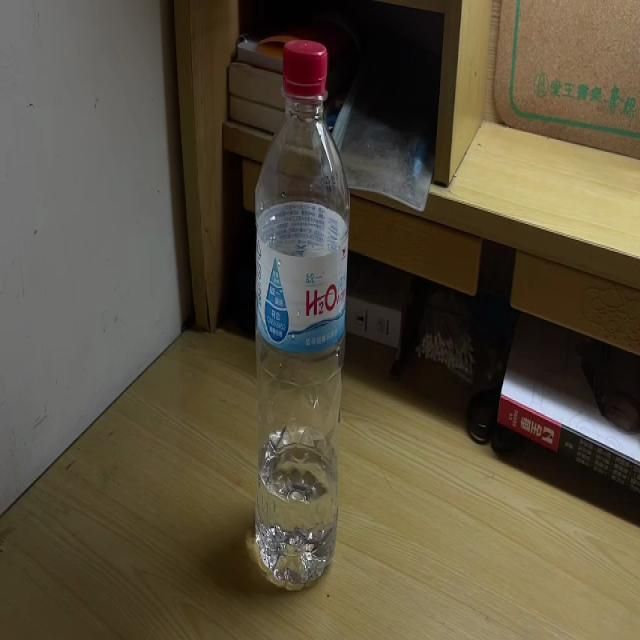Water: (252, 36, 349, 593)
